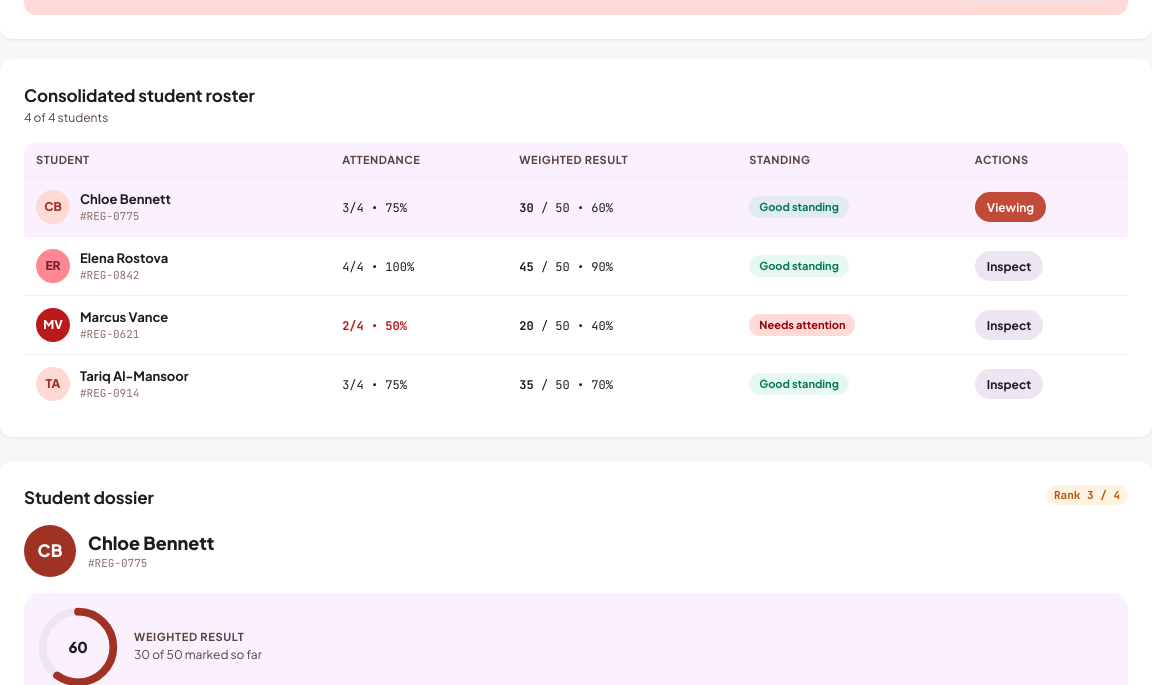
Test: the dossier follows the selected student and shows rank and counts
(page scrolled)
Expected: the heading "Chloe Bennett" is shown, [88,531,214,555]
Expected: the text "Rank 3 / 4" is shown, [1046,485,1128,505]
Click the button with aria-label "Inspect Marcus Vance" at coordinates (1009, 325), box [975,310,1043,340]
(page scrolled)
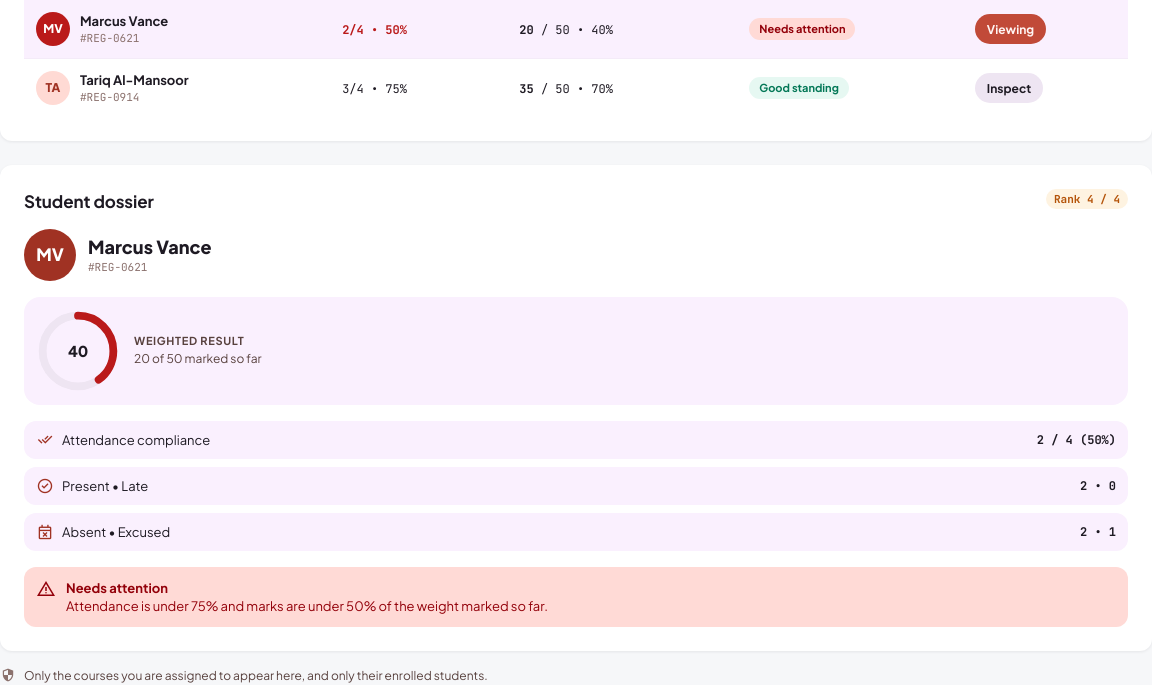
Now the heading "Marcus Vance" is shown, box [88,235,212,259]
Now the text "Rank 4 / 4" is shown, box [1046,189,1128,209]
Now the picture named "40 percent weighted result" is shown, box [38,311,118,391]
